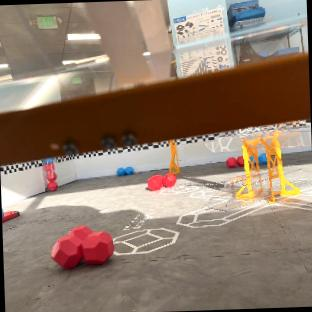V5_BLUE: (117, 167, 133, 175), (260, 153, 266, 164)
V5_RED: (51, 225, 114, 268), (148, 173, 176, 191), (2, 212, 18, 221), (226, 157, 237, 166), (236, 156, 244, 166), (48, 182, 57, 190)
